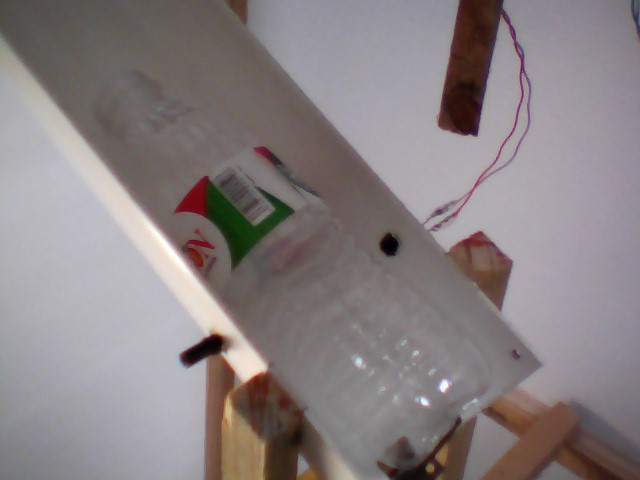plastico: (88, 60, 504, 480)
